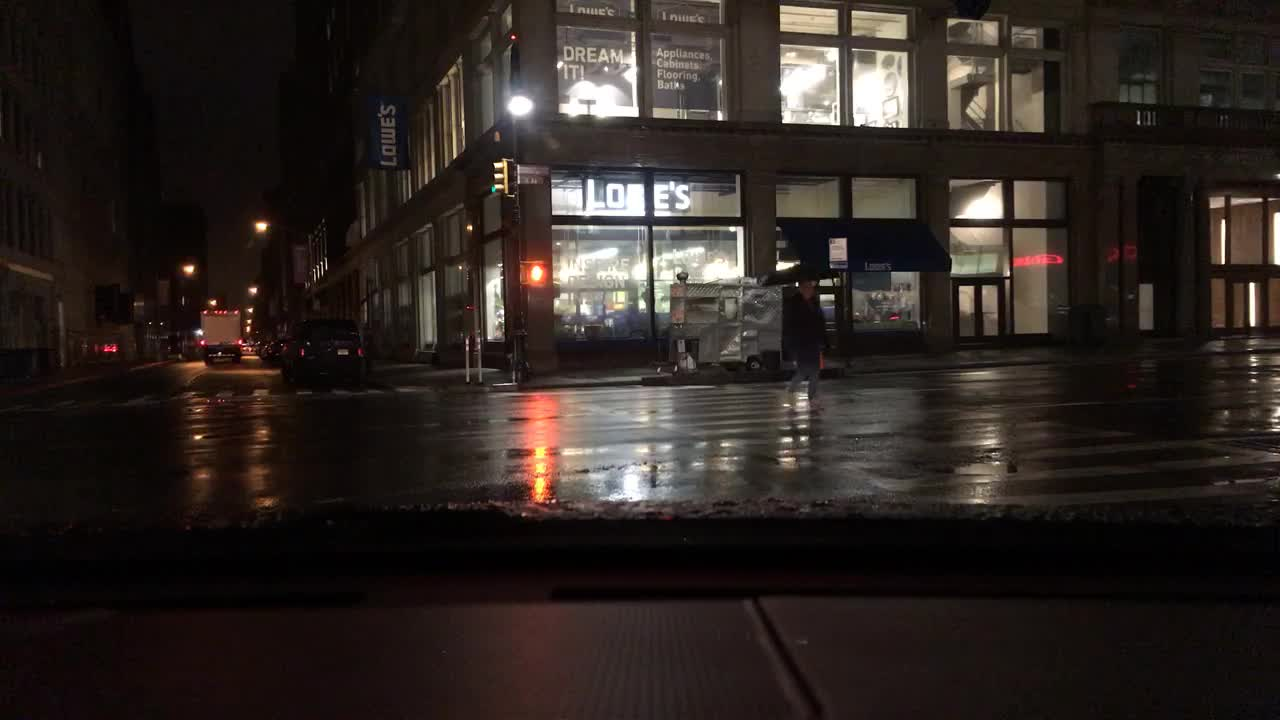car: (279, 326, 367, 386), (259, 336, 280, 361)
person: (780, 274, 829, 415)
traffic light: (489, 159, 506, 192), (504, 157, 518, 193)
truck: (197, 307, 244, 359)
